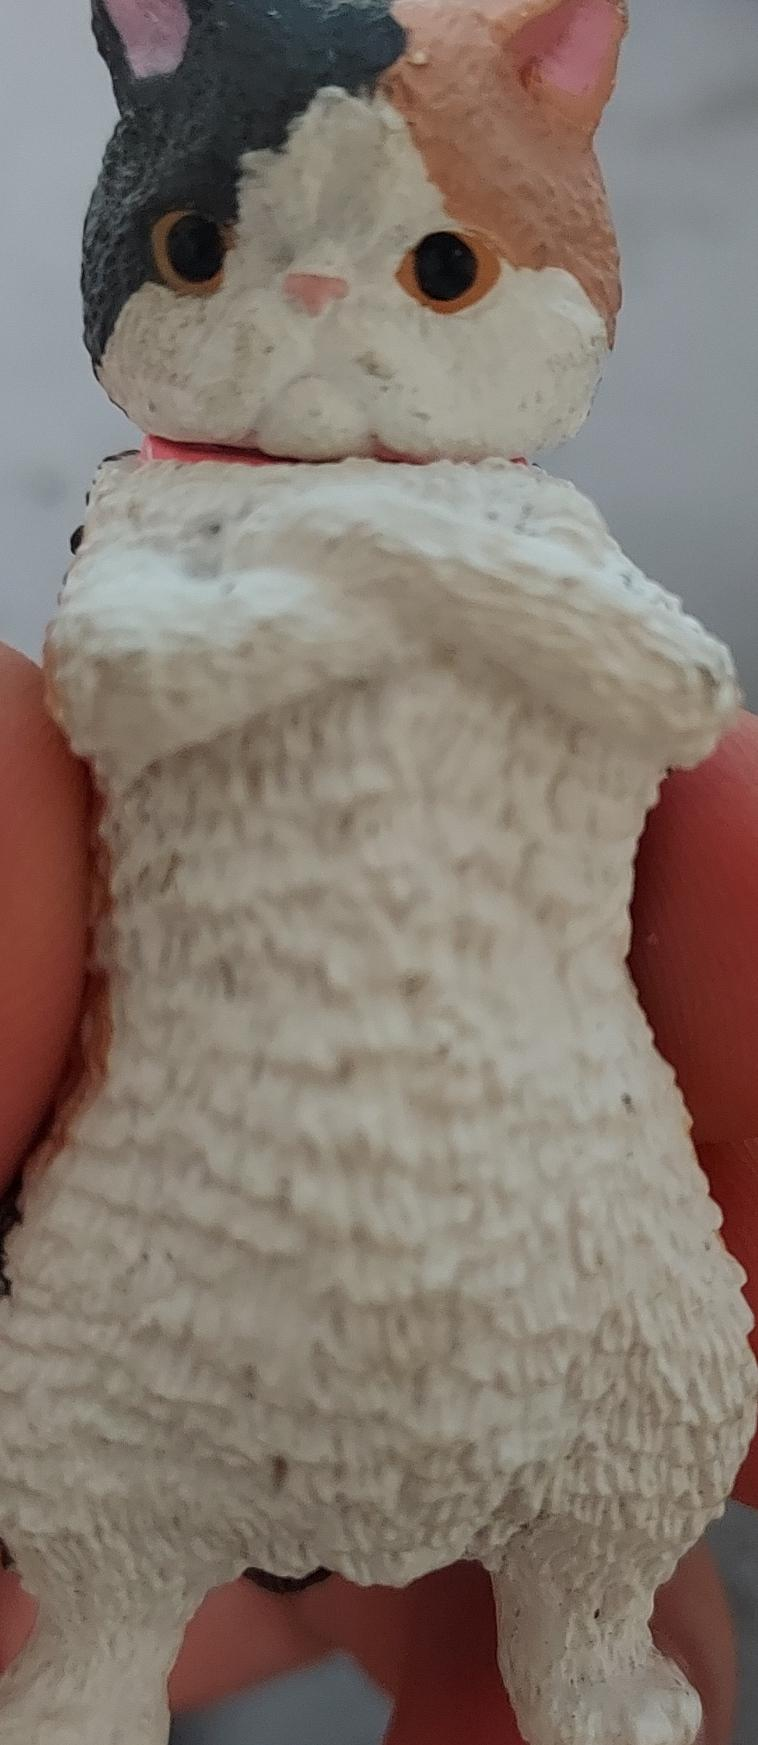cat: (1, 0, 758, 1745)
